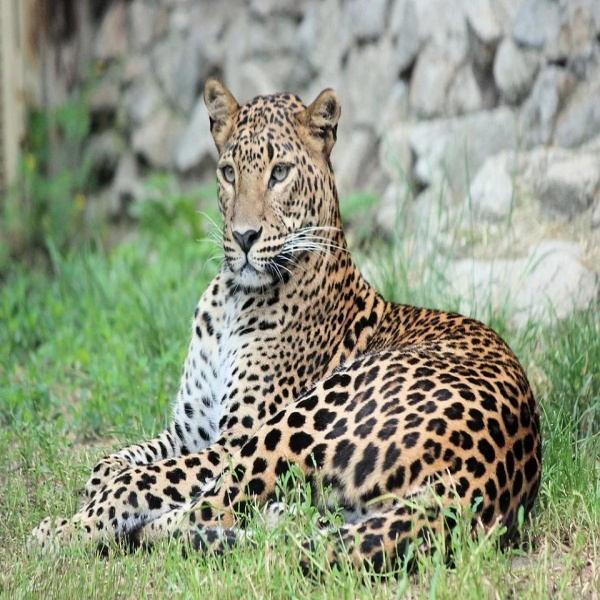Leopard: (30, 73, 547, 588)
